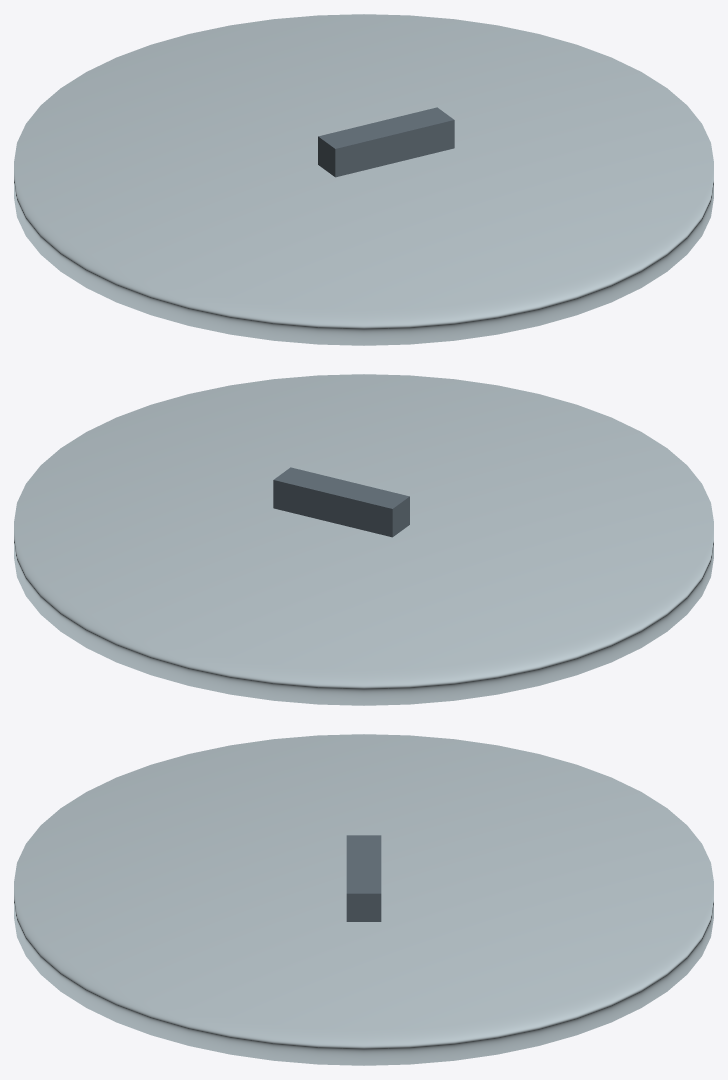
The model's file is apollo_cm.docking_tunnel.forward_hatch.glb.
The picture shows the model from 3 angles, top to bottom: view 1: azimuth 30°, elevation 25°; view 2: azimuth 150°, elevation 25°; view 3: azimuth 270°, elevation 25°; orthographic projection.
Parts seen in each view (by area): view 1: apollo_cm.docking_tunnel.forward_hatch.mesh; view 2: apollo_cm.docking_tunnel.forward_hatch.mesh; view 3: apollo_cm.docking_tunnel.forward_hatch.mesh.
Boxes of the visible parts, left/top/right/bottom form: apollo_cm.docking_tunnel.forward_hatch.mesh: left=14, top=14, right=713, bottom=345; apollo_cm.docking_tunnel.forward_hatch.mesh: left=14, top=374, right=713, bottom=705; apollo_cm.docking_tunnel.forward_hatch.mesh: left=14, top=734, right=713, bottom=1065.
Bounding box in the file's own units: 0.814 × 0.0825 × 0.814.
